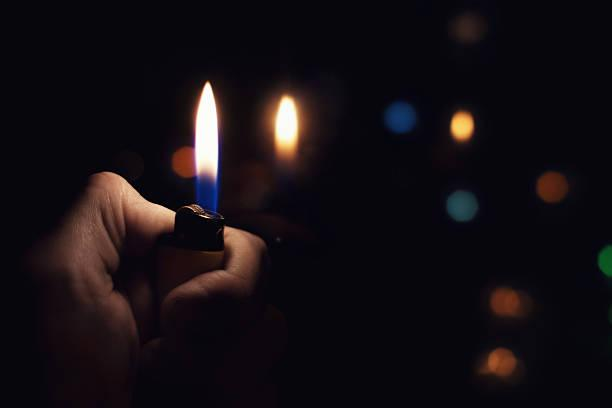Fire: (189, 77, 227, 207)
